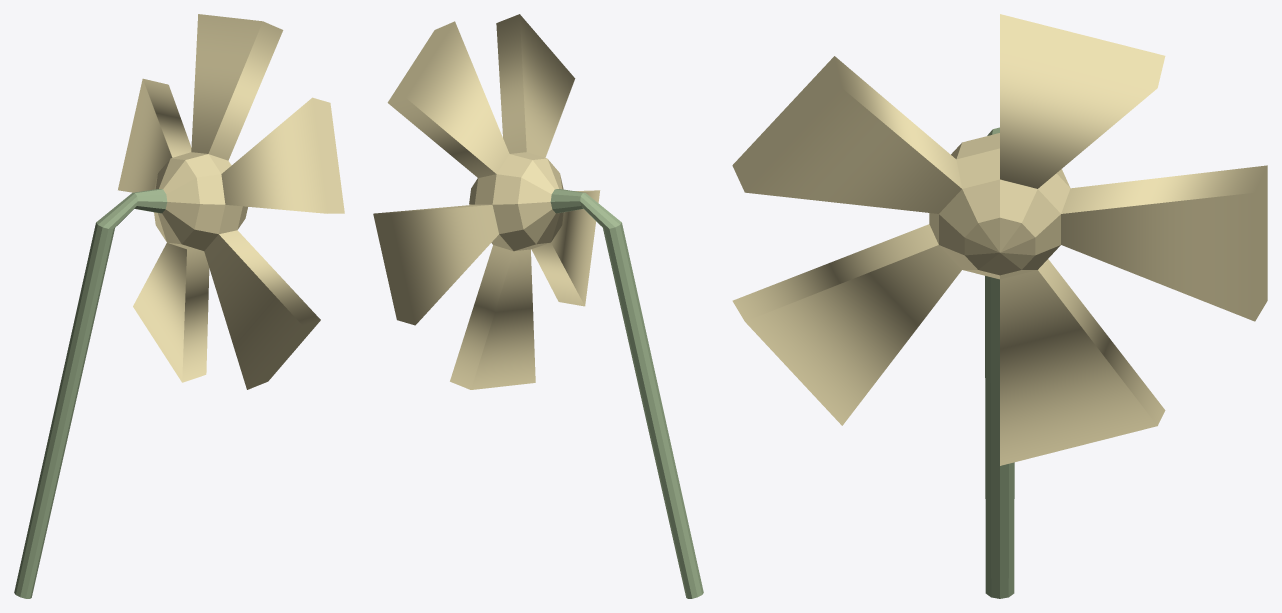
Rendered from geo_flower_03.fbx.
3 views of the same model, side by side, from view 1: azimuth 30°, elevation 25°; view 2: azimuth 150°, elevation 25°; view 3: azimuth 270°, elevation 25° (orthographic). The views are drawn at different scales.
Visible parts, largest first — view 1: geo_plantShrub_07; view 2: geo_plantShrub_07; view 3: geo_plantShrub_07.
Part boxes in pixels (bbox=[...]): geo_plantShrub_07: bbox=[14, 14, 344, 598]; geo_plantShrub_07: bbox=[373, 14, 703, 598]; geo_plantShrub_07: bbox=[732, 14, 1267, 598].
Size of the model in its own units: 9.4 by 17.36 by 11.24.
